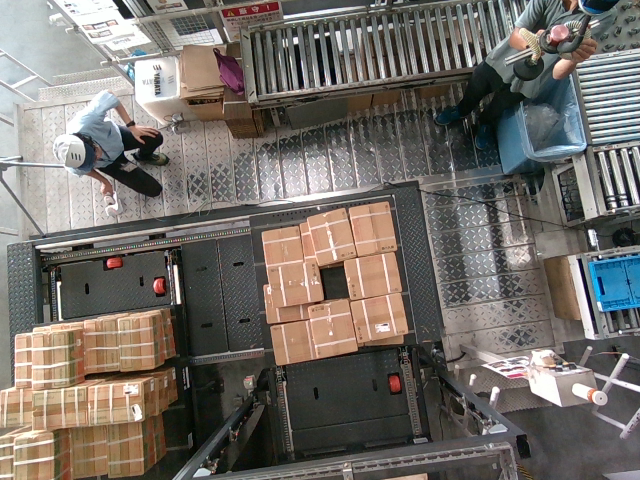box: (265, 263, 323, 304), (343, 255, 401, 296), (350, 295, 408, 336), (309, 206, 351, 260), (311, 301, 353, 355), (352, 200, 394, 254)
